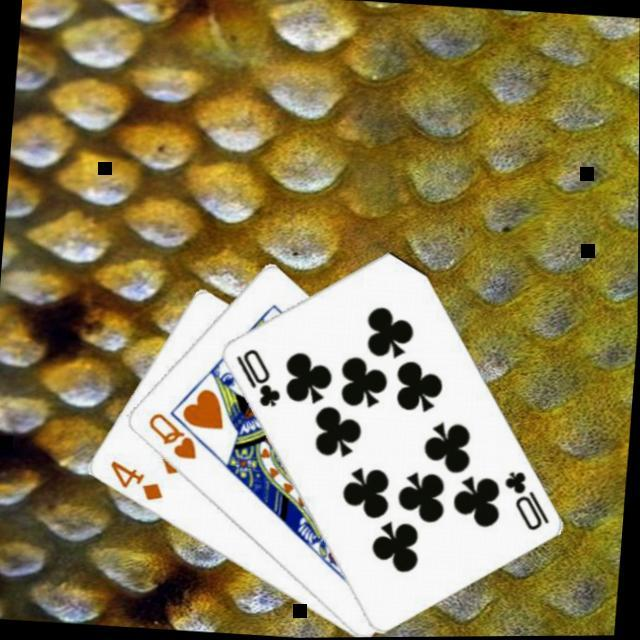10C: (227, 344, 285, 412), (496, 468, 554, 536)
4D: (102, 458, 166, 506)
QH: (142, 409, 200, 464)
